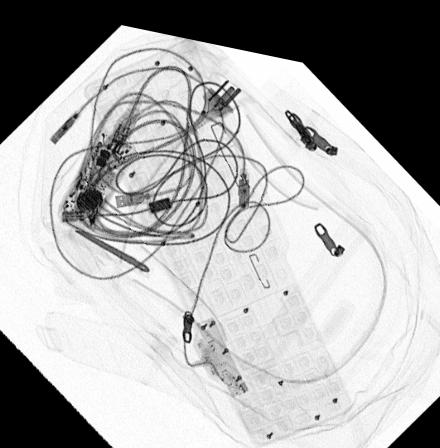Knife: (73, 227, 150, 266)
